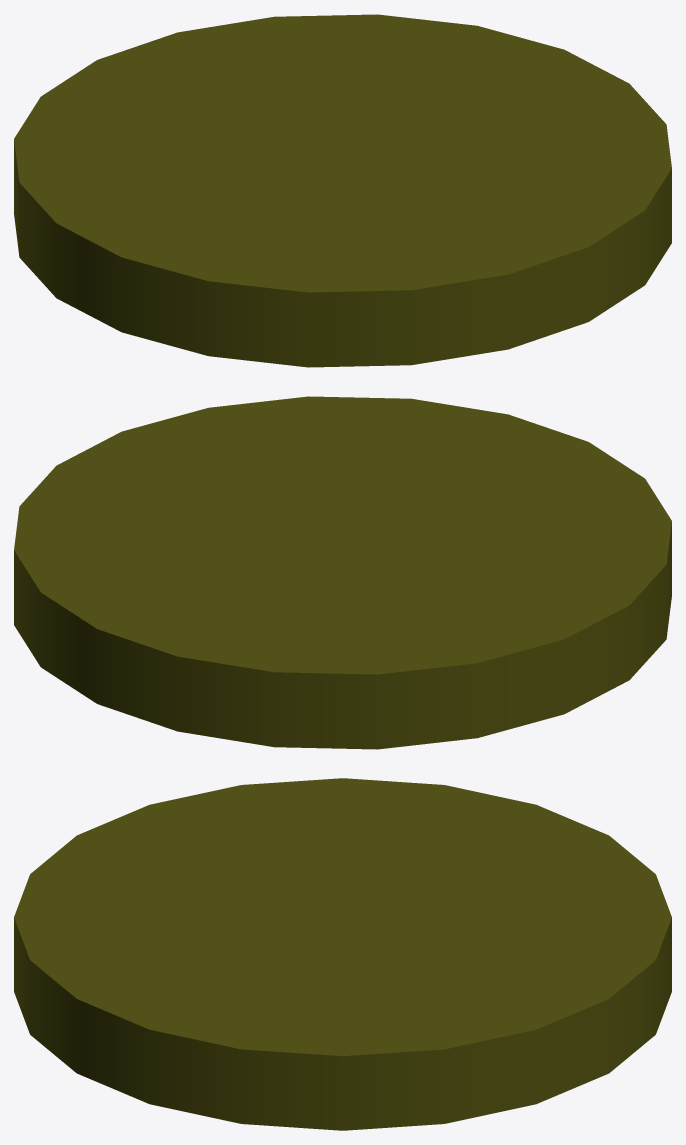
Rendered from Coin.fbx.
3 renders of one model, top to bottom at view 1: azimuth 30°, elevation 25°; view 2: azimuth 150°, elevation 25°; view 3: azimuth 270°, elevation 25°, orthographic.
Visible parts, largest first — view 1: Coin; view 2: Coin; view 3: Coin.
Part boxes in pixels (left/top/right/bottom): Coin: left=14, top=14, right=671, bottom=367; Coin: left=14, top=396, right=671, bottom=749; Coin: left=14, top=778, right=671, bottom=1130.
Size of the model in its own units: 2 by 0.25 by 2.
